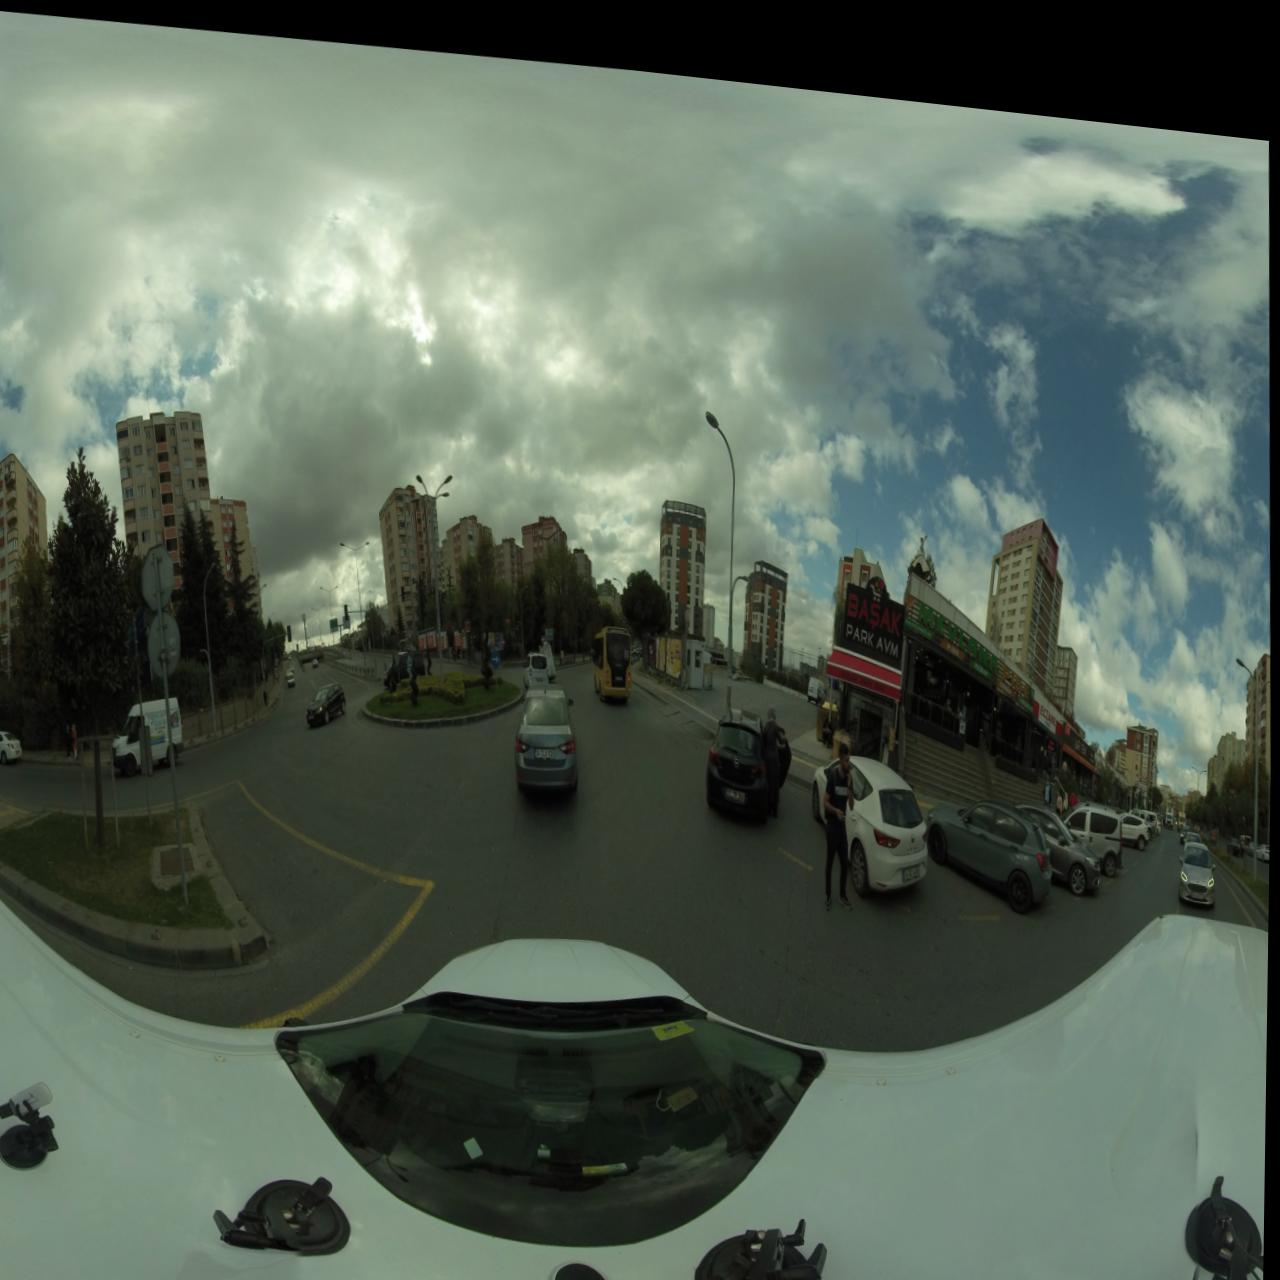SignStore: (846, 564, 906, 641), (1037, 678, 1062, 709), (1075, 708, 1092, 734)
